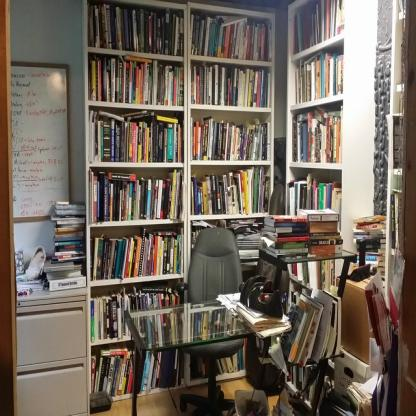book: (276, 286, 342, 414), (90, 166, 187, 224), (90, 340, 186, 397), (87, 107, 184, 162), (87, 2, 184, 57), (90, 284, 180, 341), (90, 225, 184, 279), (259, 205, 345, 261), (88, 56, 184, 106), (41, 204, 88, 292), (190, 12, 272, 62), (190, 164, 271, 214), (190, 218, 266, 269), (190, 61, 271, 107), (190, 117, 271, 162), (285, 170, 342, 233), (292, 103, 344, 164), (291, 0, 346, 53), (295, 52, 343, 104), (189, 337, 246, 380), (350, 214, 386, 276), (278, 301, 308, 363), (190, 304, 236, 342), (290, 262, 338, 292), (389, 188, 402, 258)
